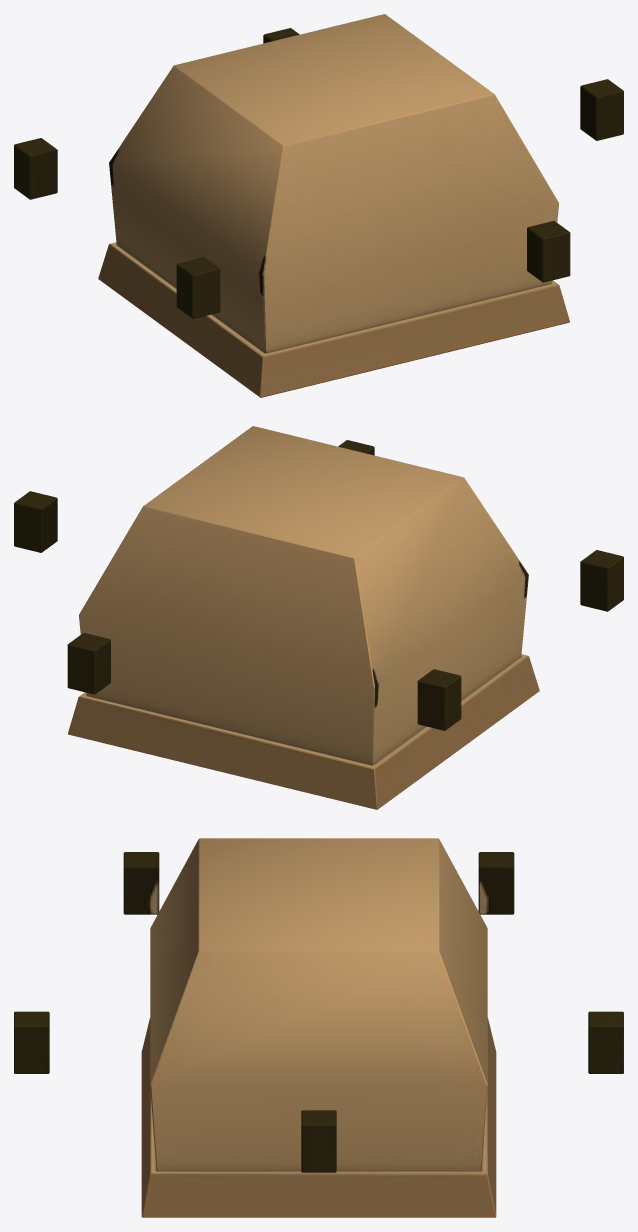
The model's file is IT_wood_helmet.glb.
3 views of the same model, one above another, from view 1: azimuth 30°, elevation 25°; view 2: azimuth 150°, elevation 25°; view 3: azimuth 270°, elevation 25° (orthographic). The views are drawn at different scales.
Parts seen in each view (by area): view 1: IT_wood_helmet; view 2: IT_wood_helmet; view 3: IT_wood_helmet.
Boxes of the visible parts, box(x1,y1,x2,y2) form: IT_wood_helmet: box(14, 14, 623, 397); IT_wood_helmet: box(14, 426, 623, 809); IT_wood_helmet: box(14, 838, 623, 1217).
Bounding box in the file's own units: 0.7274 × 0.3 × 0.6867.
Materials: 1 (1 with a texture image).
